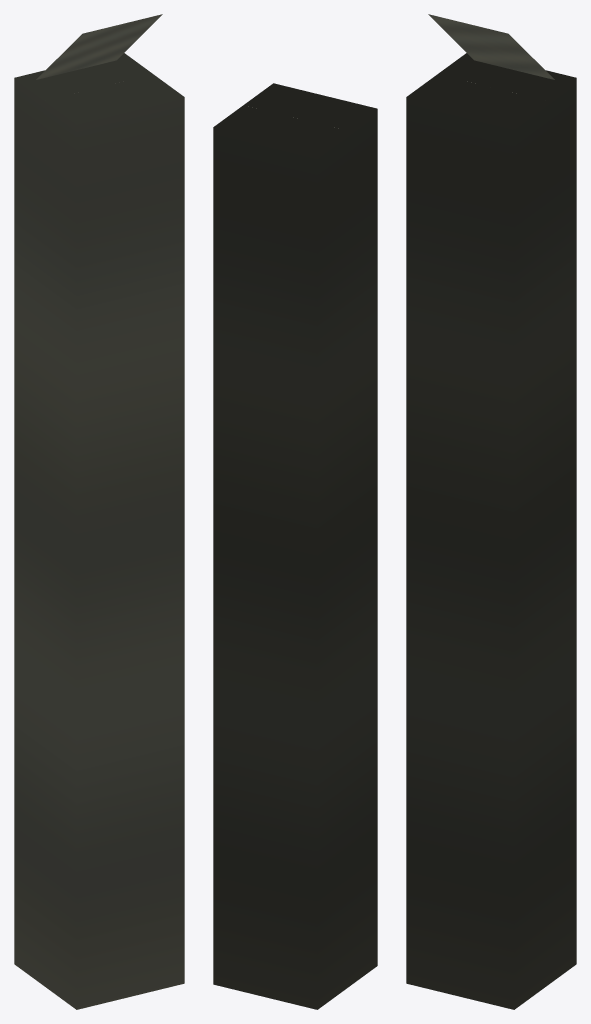
File: env_corner_post_a.glb
3 views of the same model, side by side, from view 1: azimuth 30°, elevation 25°; view 2: azimuth 150°, elevation 25°; view 3: azimuth 330°, elevation 25° (orthographic). The views are drawn at different scales.
Visible parts, largest first — view 1: env_corner_post_a; view 2: env_corner_post_a; view 3: env_corner_post_a.
Boxes of the visible parts, x1=… form: env_corner_post_a: x1=14, y1=14, x2=184, y2=1009; env_corner_post_a: x1=213, y1=83, x2=377, y2=1009; env_corner_post_a: x1=406, y1=14, x2=576, y2=1009.
Size of the model in its own units: 0.42 by 3.6 by 0.42.
Materials: 1 (1 with a texture image).
